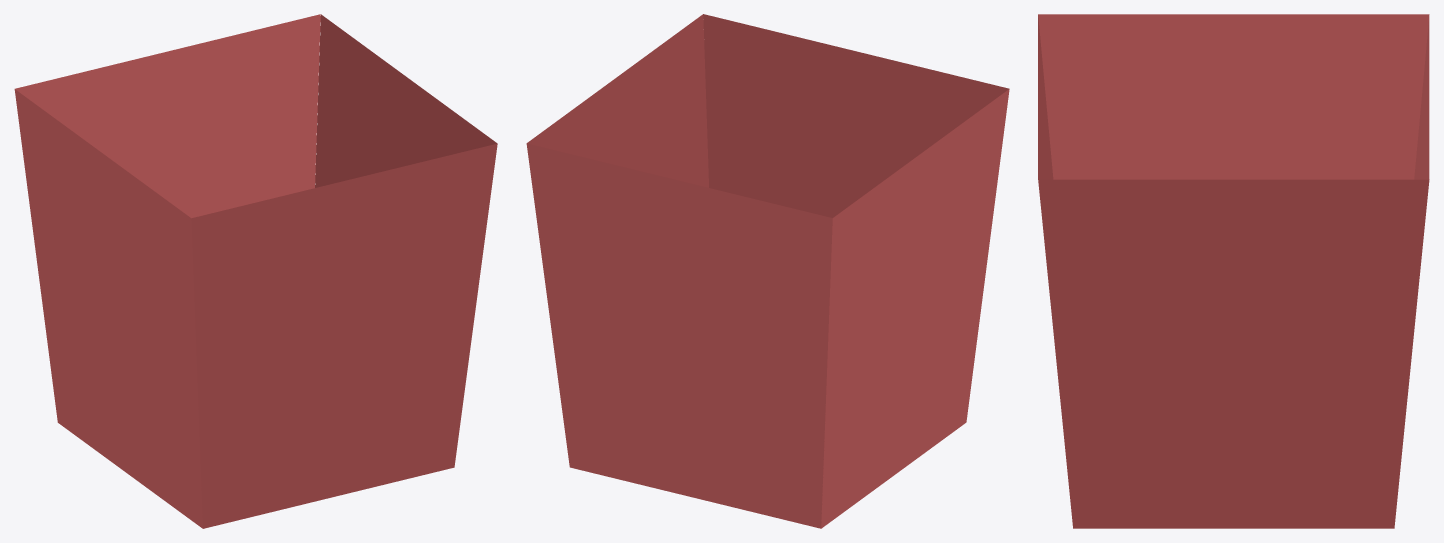
3 renders of one model, left to right at view 1: azimuth 30°, elevation 25°; view 2: azimuth 150°, elevation 25°; view 3: azimuth 270°, elevation 25°, orthographic. The views are drawn at different scales.
Visible parts, largest first — view 1: high_mt_col; view 2: high_mt_col; view 3: high_mt_col.
Part boxes in pixels (x1=…): high_mt_col: x1=14, y1=14, x2=497, y2=528; high_mt_col: x1=526, y1=14, x2=1009, y2=528; high_mt_col: x1=1038, y1=14, x2=1429, y2=528.
Bounding box in the file's own units: 19.51 × 20.05 × 19.51.
